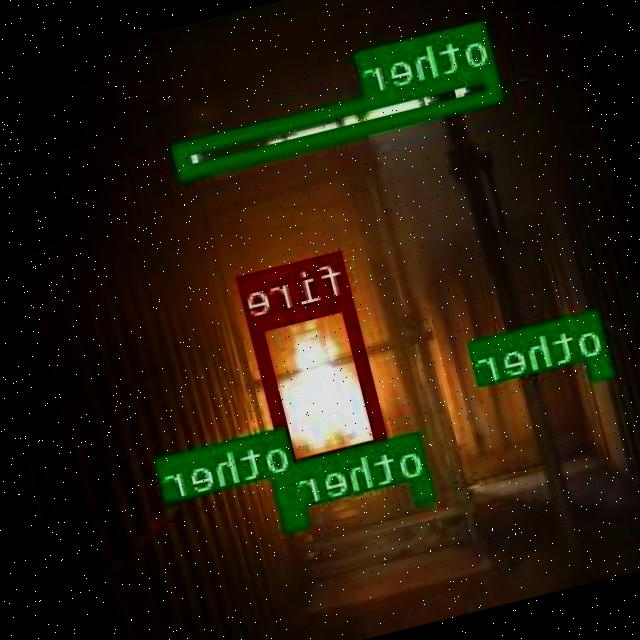fire: (250, 292, 392, 472)
